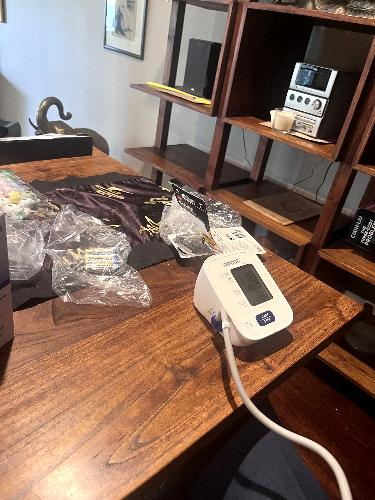bpm: (229, 256, 277, 312)
